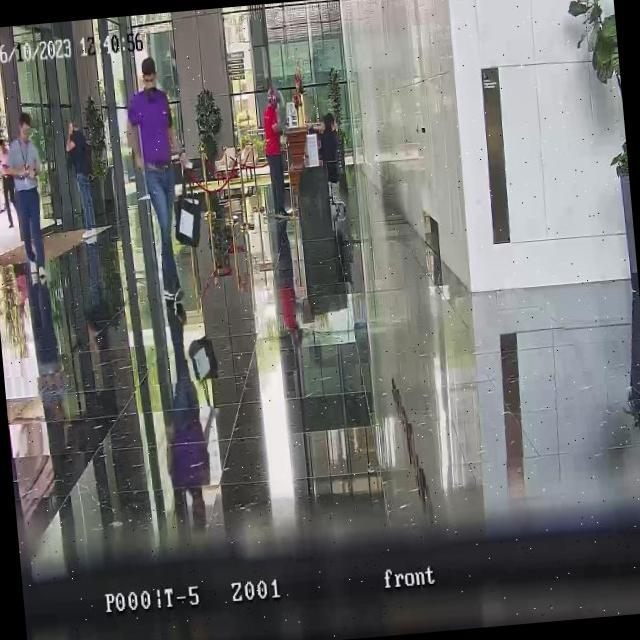person: (122, 53, 200, 304), (0, 110, 50, 280), (259, 84, 293, 218), (63, 117, 99, 234), (306, 113, 336, 175), (0, 136, 17, 229)
